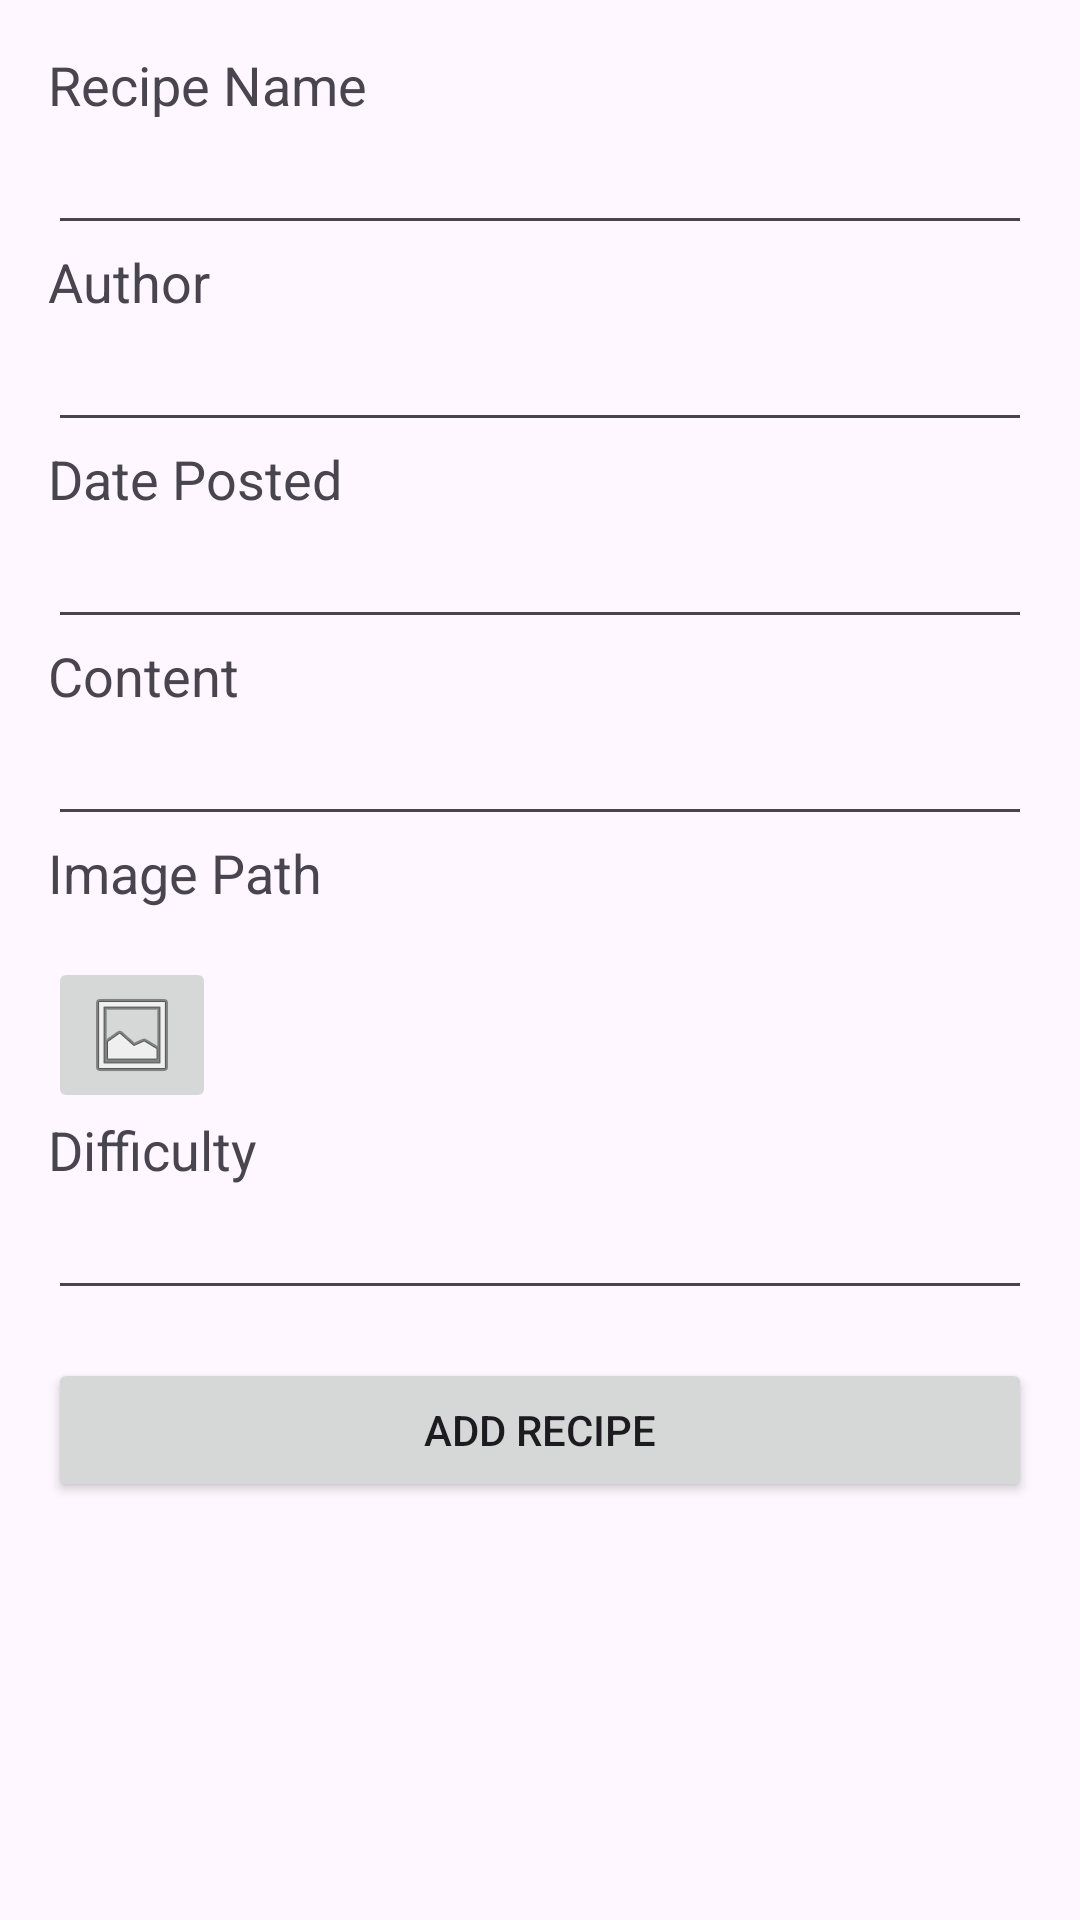

Named icons in this screenshot (1080px×1920px) and their centers, [x,y]:
gallery: [132,1035]
